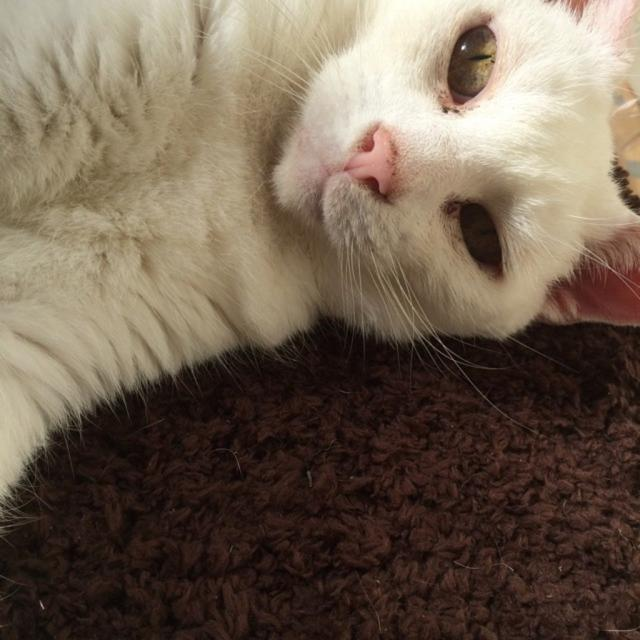Cat: (0, 0, 638, 536)
